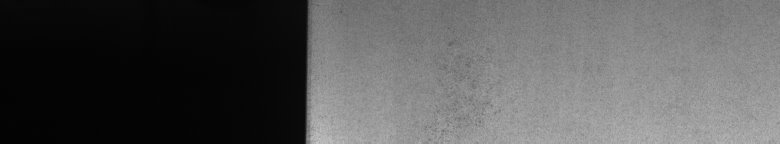ib: (425, 37, 500, 135)
